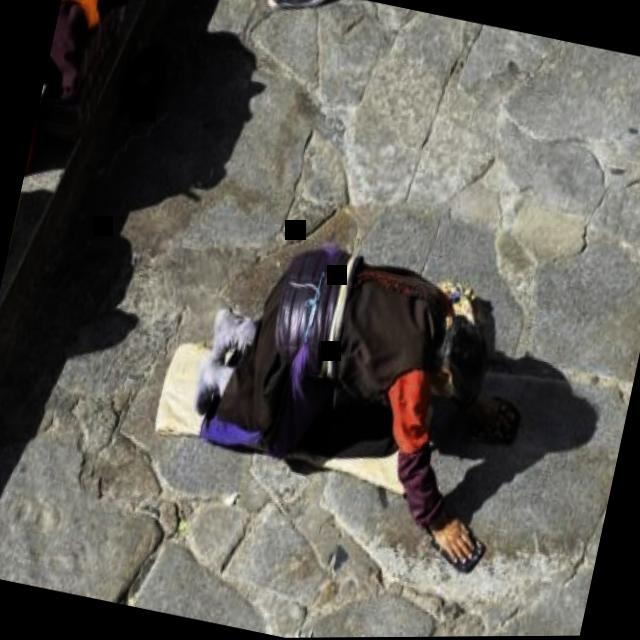Fall-Detected: (154, 208, 550, 574)
